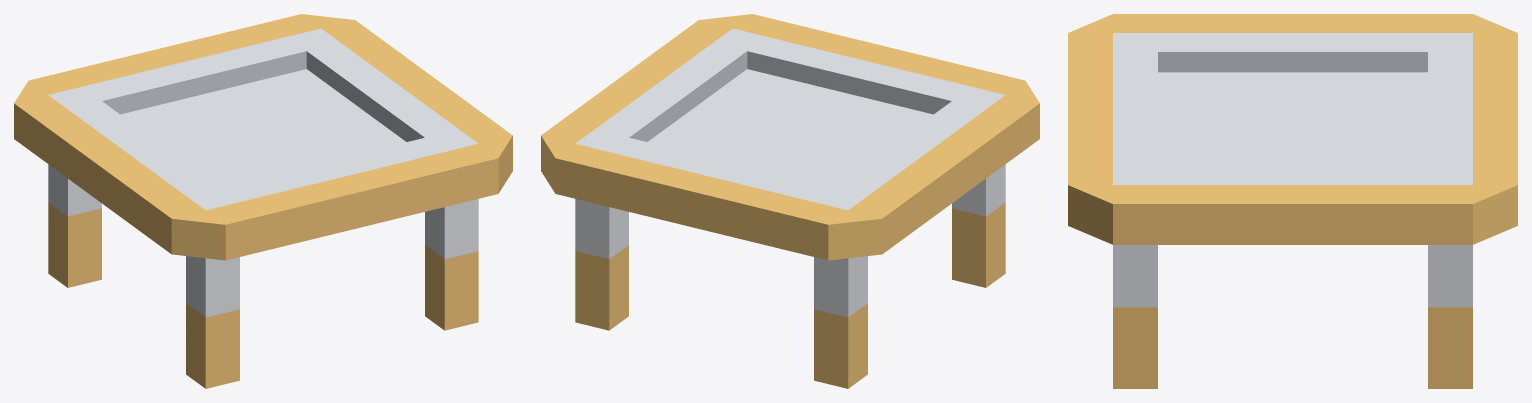
File: platform_low.glb
3 views of the same model, side by side, from view 1: azimuth 30°, elevation 25°; view 2: azimuth 150°, elevation 25°; view 3: azimuth 270°, elevation 25° (orthographic). The views are drawn at different scales.
Visible parts, largest first — view 1: platform_low; view 2: platform_low; view 3: platform_low.
Boxes of the visible parts, x1=… form: platform_low: x1=14, y1=14, x2=512, y2=388; platform_low: x1=541, y1=14, x2=1039, y2=388; platform_low: x1=1068, y1=14, x2=1517, y2=388.
Bounding box in the file's own units: 1 × 0.5 × 1.
Materials: 1 (1 with a texture image).
